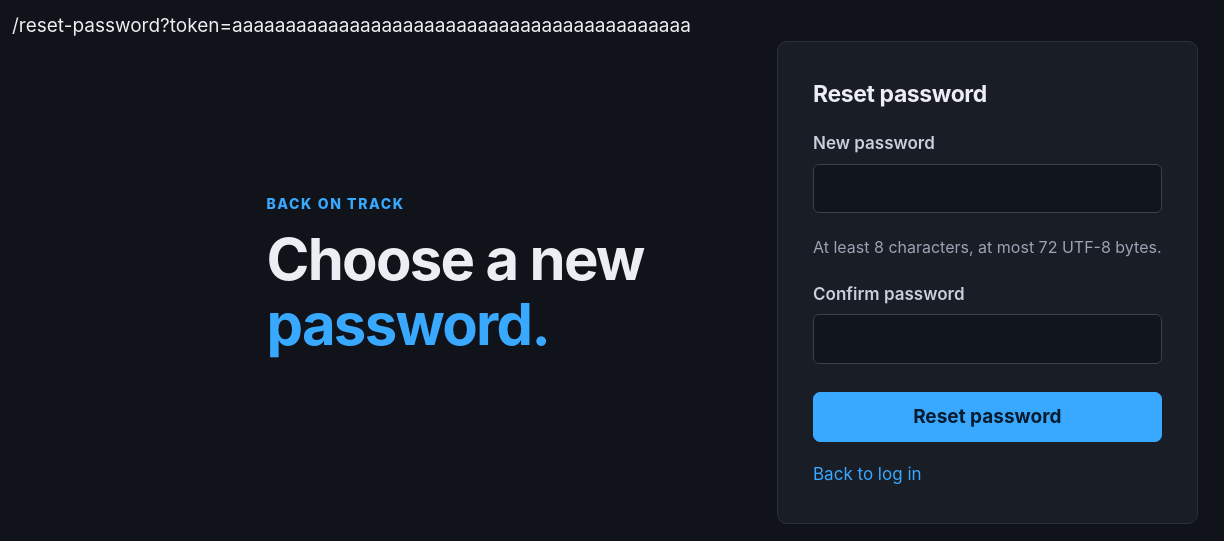
Test: shows the same invalid-link state for expired or consumed tokens
The width and height of the screenshot is (1224, 541).
Type "new-password" into the password field labelled "New password". click: (987, 188)
box: [813,164,1162,213]
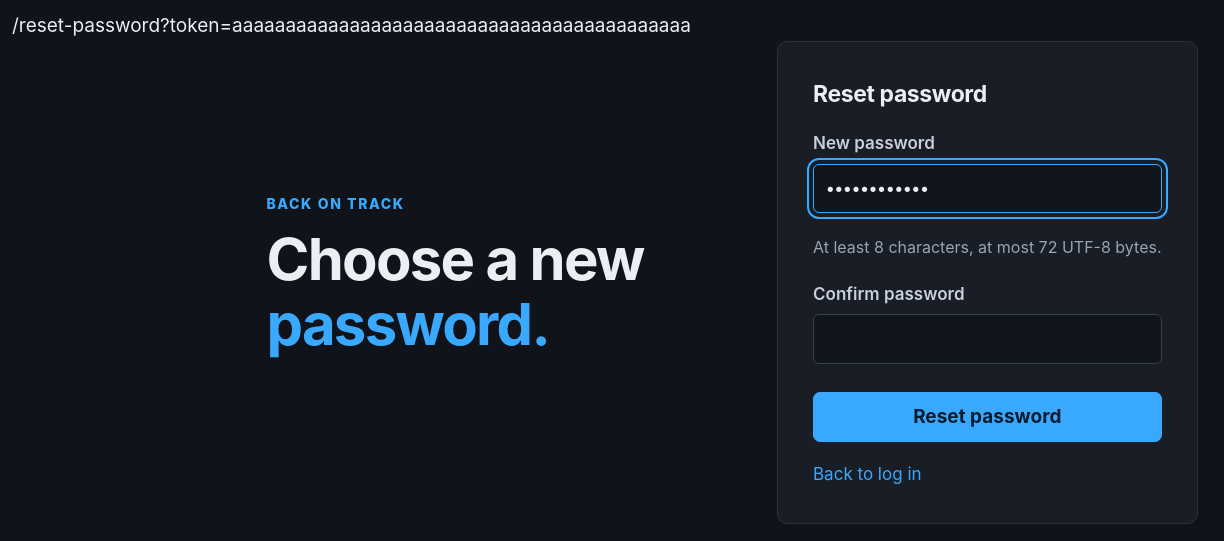
Type "new-password" into the password field labelled "Confirm password". click: (987, 339)
box: [813,314,1162,364]
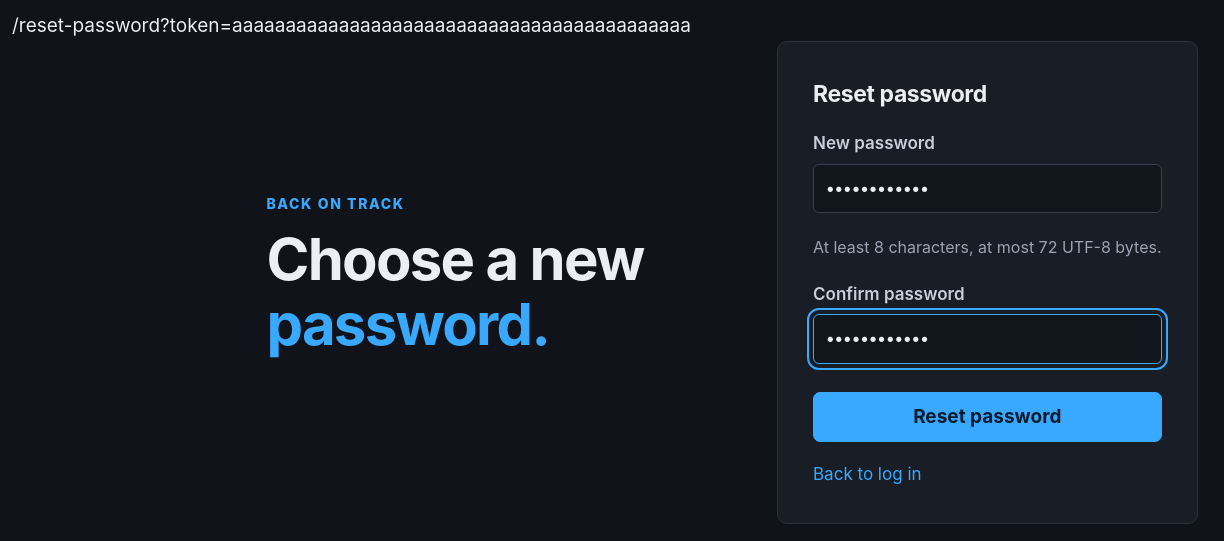
Click the button "Reset password". click: (987, 417)
box: [813,392,1162,442]
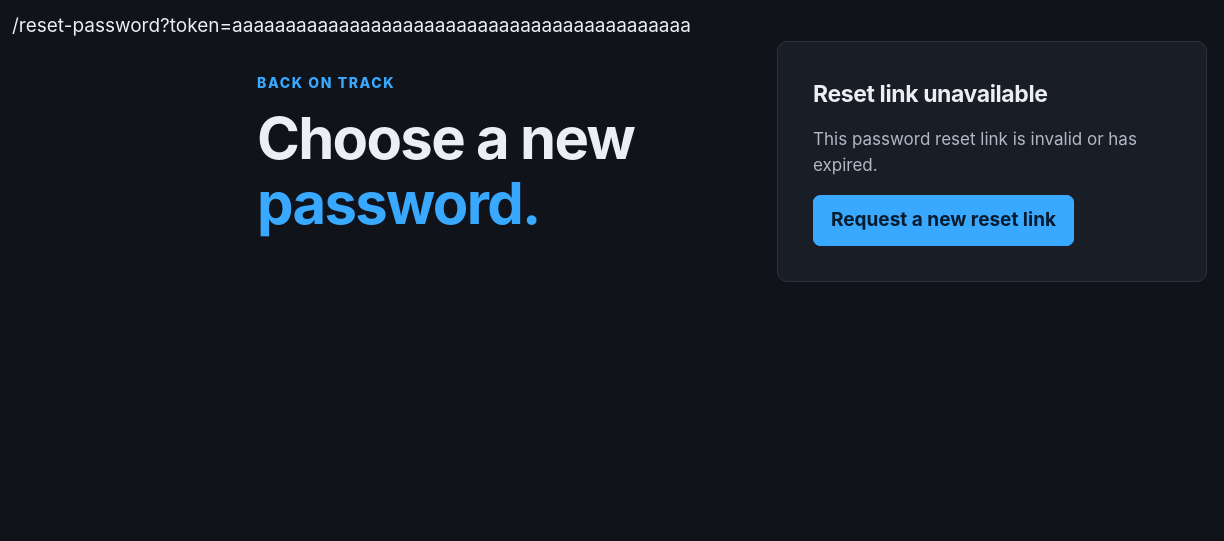
Result: the heading "Reset link unavailable" is shown at [813,80,1048,108]
